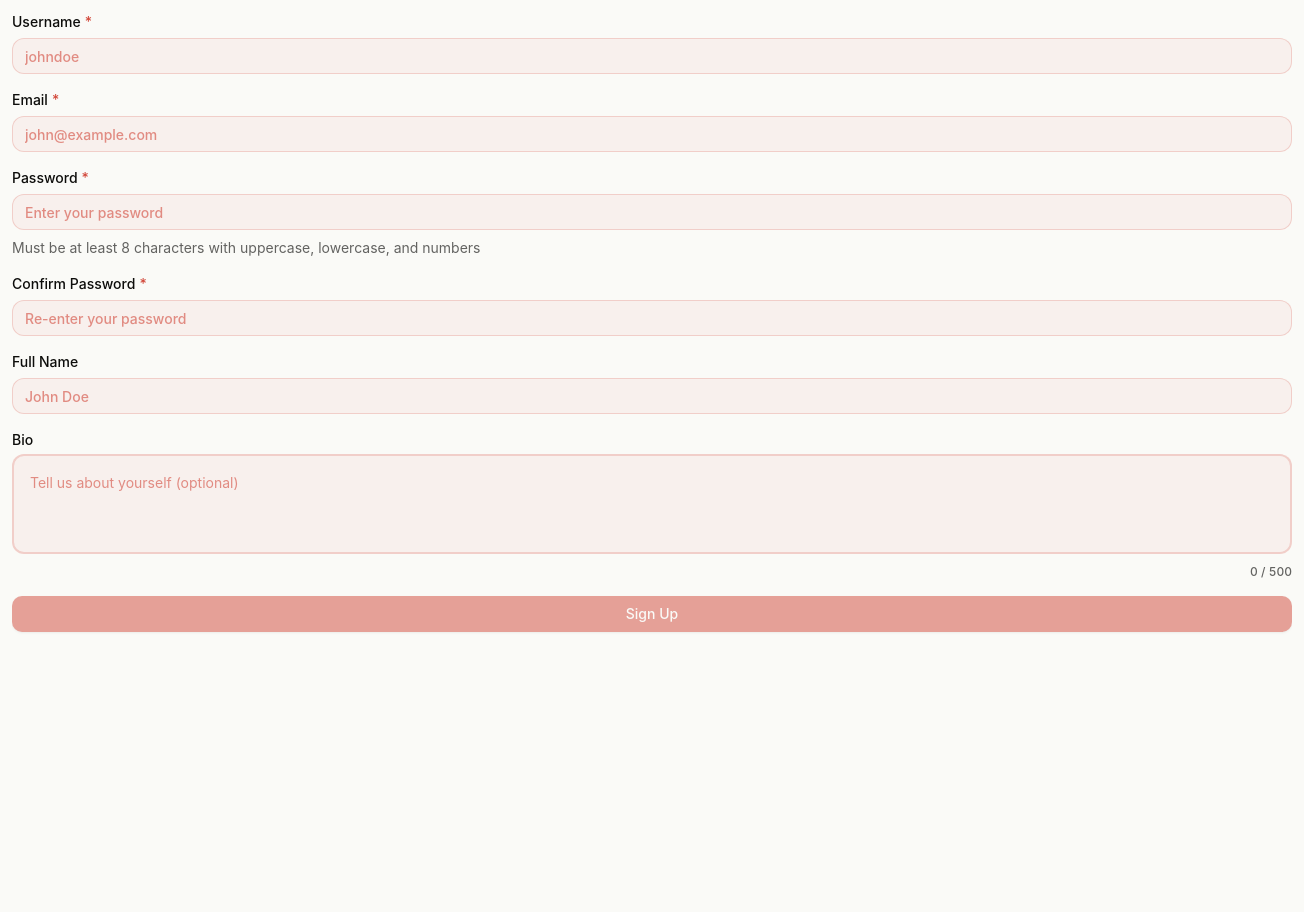
Test: RegisterForm › validates confirm password is required
Click the password field labelled "Confirm Password" at (652, 318), box left=12, top=300, right=1292, bottom=336
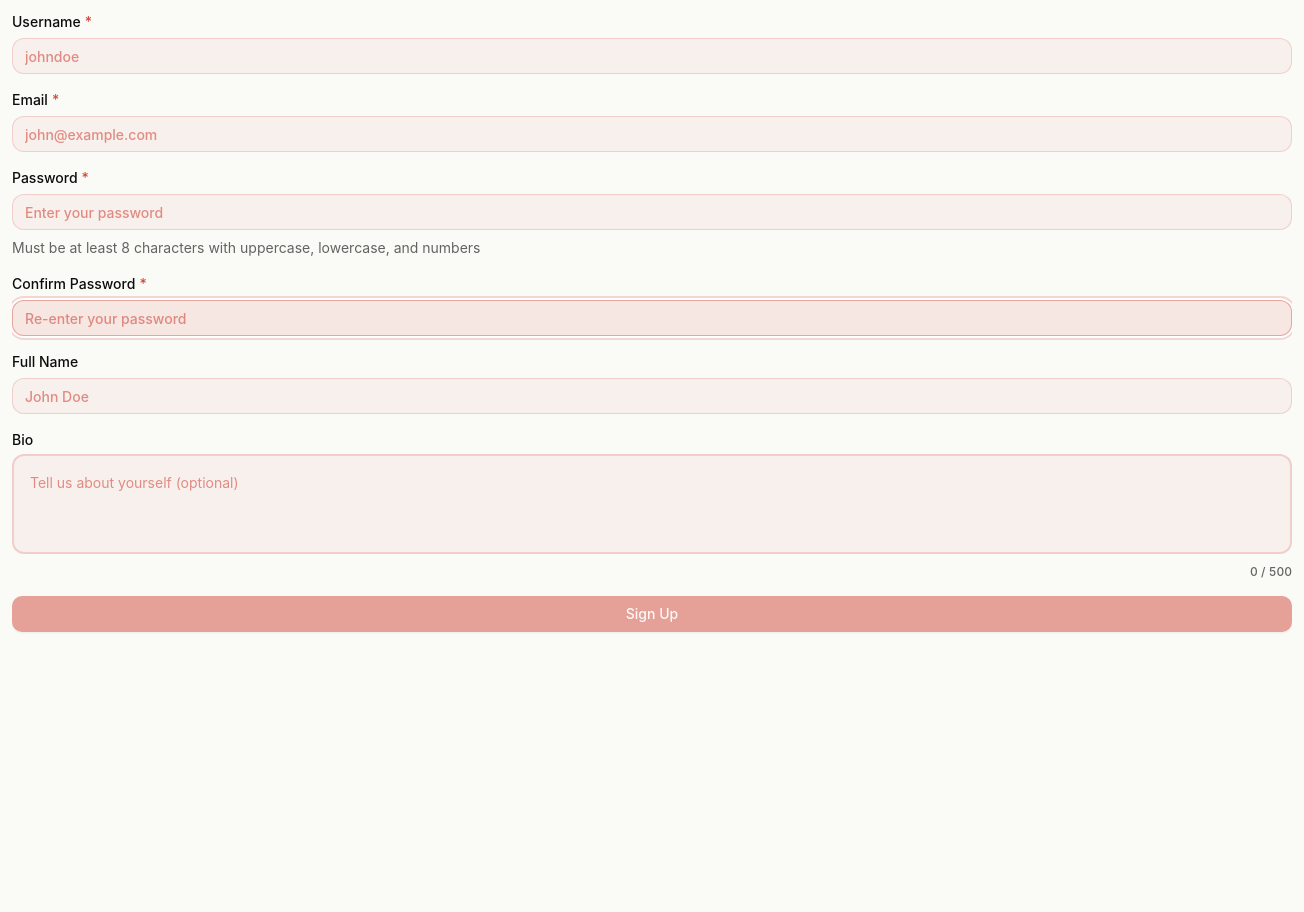
Press Tab
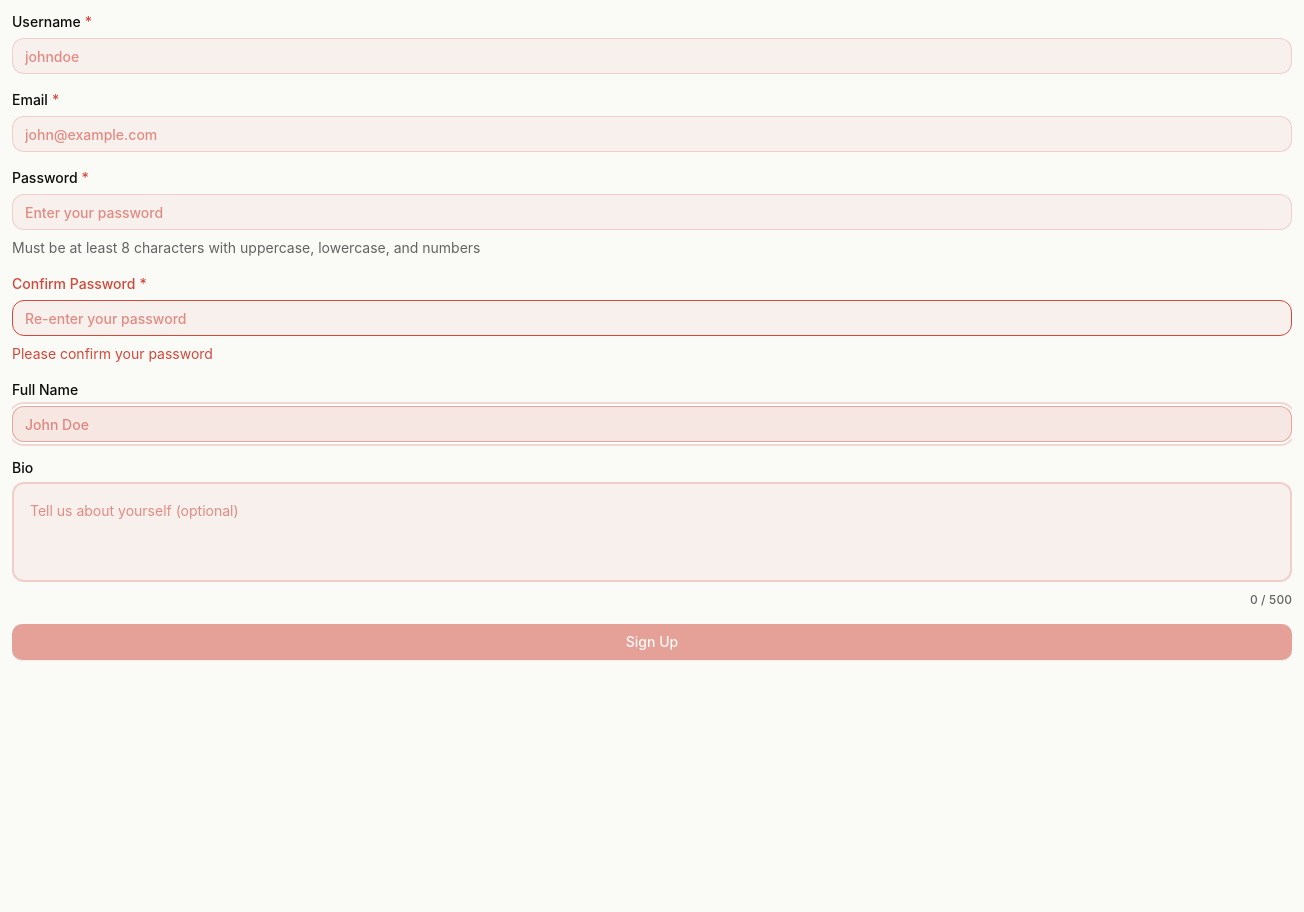
Result: the text "Please confirm your password" is shown at left=12, top=344, right=213, bottom=364
